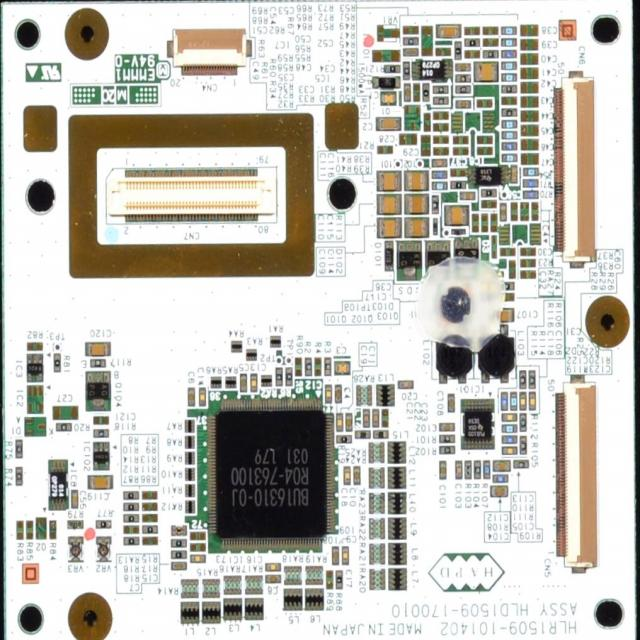Capacitor Jumper: (448, 206, 467, 223), (476, 64, 496, 79), (86, 344, 107, 354), (422, 29, 431, 52), (382, 173, 397, 186), (408, 175, 424, 187), (382, 198, 396, 210), (401, 132, 416, 143), (56, 408, 74, 416), (91, 478, 107, 487), (523, 109, 536, 120), (520, 26, 535, 35), (383, 221, 395, 232), (335, 360, 347, 371), (524, 54, 537, 64), (410, 200, 422, 210), (524, 97, 537, 106), (522, 40, 535, 49), (522, 128, 536, 136), (411, 222, 422, 232), (441, 28, 454, 36), (173, 562, 186, 570), (384, 119, 396, 127), (199, 388, 205, 404), (434, 114, 447, 121), (523, 155, 535, 162), (520, 247, 534, 253), (188, 388, 194, 402), (456, 462, 461, 478), (456, 101, 469, 107), (398, 382, 411, 388), (448, 397, 454, 410), (455, 138, 466, 145), (523, 69, 534, 76), (512, 203, 517, 218), (524, 83, 536, 89), (434, 160, 446, 166), (405, 87, 410, 101), (383, 96, 393, 103), (440, 463, 445, 477), (478, 101, 489, 107), (524, 141, 535, 147), (461, 192, 472, 198), (503, 249, 514, 255), (441, 423, 452, 429), (493, 488, 504, 494), (336, 387, 341, 400), (501, 204, 505, 220), (522, 271, 534, 276), (251, 376, 256, 388), (346, 414, 351, 426), (405, 49, 415, 55), (346, 468, 350, 482), (73, 493, 77, 507), (342, 546, 346, 560), (453, 171, 464, 176), (496, 463, 505, 469), (511, 263, 515, 276), (326, 386, 330, 399), (373, 410, 377, 423), (504, 99, 514, 104), (270, 575, 280, 580), (512, 168, 516, 180), (242, 377, 246, 389), (521, 396, 525, 408), (531, 396, 535, 408), (335, 548, 339, 560), (192, 556, 204, 560), (365, 411, 368, 426), (94, 418, 105, 422), (266, 565, 276, 569), (458, 66, 468, 70), (356, 468, 359, 481), (506, 448, 515, 452), (506, 416, 514, 419), (338, 416, 340, 427)
Connector: (106, 166, 278, 223), (557, 87, 596, 250), (562, 390, 598, 558), (173, 34, 240, 68)
IC: (216, 407, 326, 536), (464, 409, 491, 442), (50, 463, 64, 505), (416, 62, 445, 76), (94, 442, 108, 468), (28, 387, 41, 411), (29, 355, 43, 376), (479, 167, 495, 181)
Resistor Jumper: (286, 566, 302, 581), (306, 567, 320, 584), (226, 577, 240, 594), (370, 519, 382, 538), (202, 580, 217, 595), (183, 580, 197, 596), (246, 579, 260, 592), (372, 544, 383, 560), (372, 468, 382, 485), (358, 387, 368, 403), (372, 445, 382, 461), (370, 495, 380, 511), (372, 573, 382, 584), (335, 571, 341, 587), (193, 544, 206, 551), (466, 462, 472, 477), (327, 572, 333, 587), (523, 260, 534, 268), (54, 354, 59, 371), (433, 136, 447, 142), (477, 148, 491, 154), (403, 64, 409, 78), (247, 349, 256, 358), (296, 359, 301, 375), (212, 378, 220, 388), (186, 470, 194, 480), (123, 527, 139, 532), (532, 203, 537, 218), (452, 148, 464, 154), (233, 342, 242, 350), (28, 344, 40, 350), (375, 430, 387, 436), (516, 462, 528, 468), (176, 526, 185, 534), (502, 87, 516, 92), (484, 190, 494, 197), (270, 338, 280, 345), (185, 421, 192, 431), (186, 436, 193, 446), (521, 438, 526, 452), (186, 453, 193, 463), (455, 44, 460, 58), (435, 148, 446, 154), (187, 487, 193, 498), (192, 533, 203, 539), (451, 182, 464, 187), (316, 359, 321, 372), (276, 370, 281, 383), (502, 394, 507, 407), (57, 423, 70, 428), (414, 85, 418, 101), (424, 138, 428, 154), (522, 205, 526, 221), (475, 460, 479, 476), (18, 522, 22, 538), (174, 550, 183, 557), (422, 85, 427, 97), (435, 100, 447, 105), (434, 126, 446, 131), (478, 138, 490, 143), (434, 172, 444, 178), (433, 198, 438, 210), (504, 28, 514, 34), (306, 358, 310, 373), (529, 373, 534, 385), (520, 372, 524, 387), (404, 39, 416, 44), (522, 415, 526, 430), (504, 436, 514, 442), (16, 442, 20, 457), (144, 504, 154, 510), (125, 514, 135, 520), (484, 52, 494, 58), (228, 379, 235, 387), (16, 468, 20, 482), (50, 522, 54, 536), (504, 112, 515, 117), (339, 436, 350, 441), (441, 436, 452, 441), (144, 537, 155, 542), (28, 522, 31, 540), (424, 116, 428, 129), (485, 462, 489, 475), (68, 522, 81, 526), (504, 40, 514, 45), (468, 41, 478, 46), (126, 503, 136, 508), (439, 49, 449, 54), (286, 370, 290, 382), (96, 430, 104, 436), (145, 514, 153, 520), (97, 522, 109, 526), (512, 393, 515, 408), (495, 476, 504, 481), (505, 63, 514, 68), (406, 28, 417, 32), (93, 362, 104, 366), (386, 67, 397, 71), (264, 378, 270, 385), (506, 426, 513, 432), (458, 77, 468, 81), (435, 184, 443, 189), (487, 29, 495, 34), (126, 540, 136, 544), (468, 54, 478, 58), (326, 359, 329, 372), (504, 134, 513, 138), (466, 30, 475, 34), (187, 503, 191, 512), (459, 88, 466, 93), (530, 181, 537, 186), (176, 540, 183, 545), (436, 86, 444, 90), (505, 143, 513, 147), (528, 192, 536, 196), (486, 40, 494, 44), (127, 494, 135, 498), (505, 52, 513, 56), (525, 170, 535, 173), (146, 496, 156, 499), (507, 155, 514, 159), (506, 75, 515, 78), (146, 527, 155, 530), (505, 122, 513, 125), (358, 432, 366, 435), (444, 448, 452, 451)
